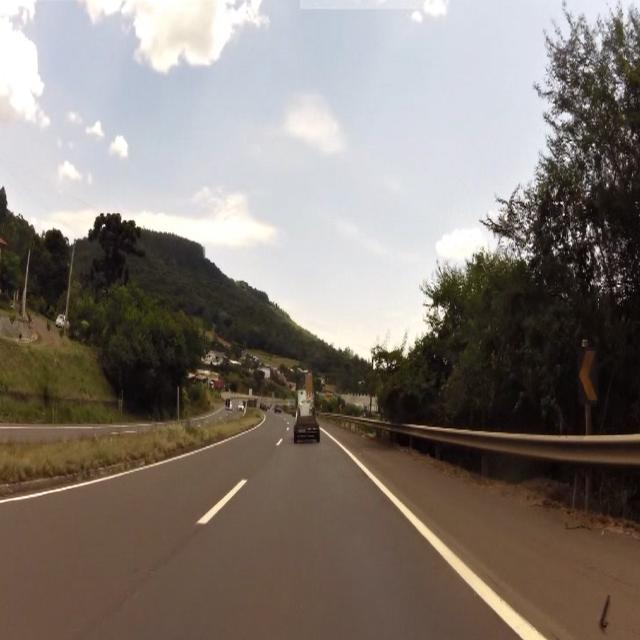Del: (572, 349, 602, 406)
